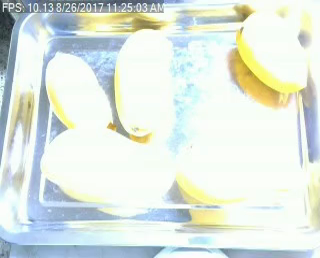Mango: (40, 125, 176, 210), (115, 27, 173, 134), (236, 9, 309, 91), (44, 50, 112, 130)
